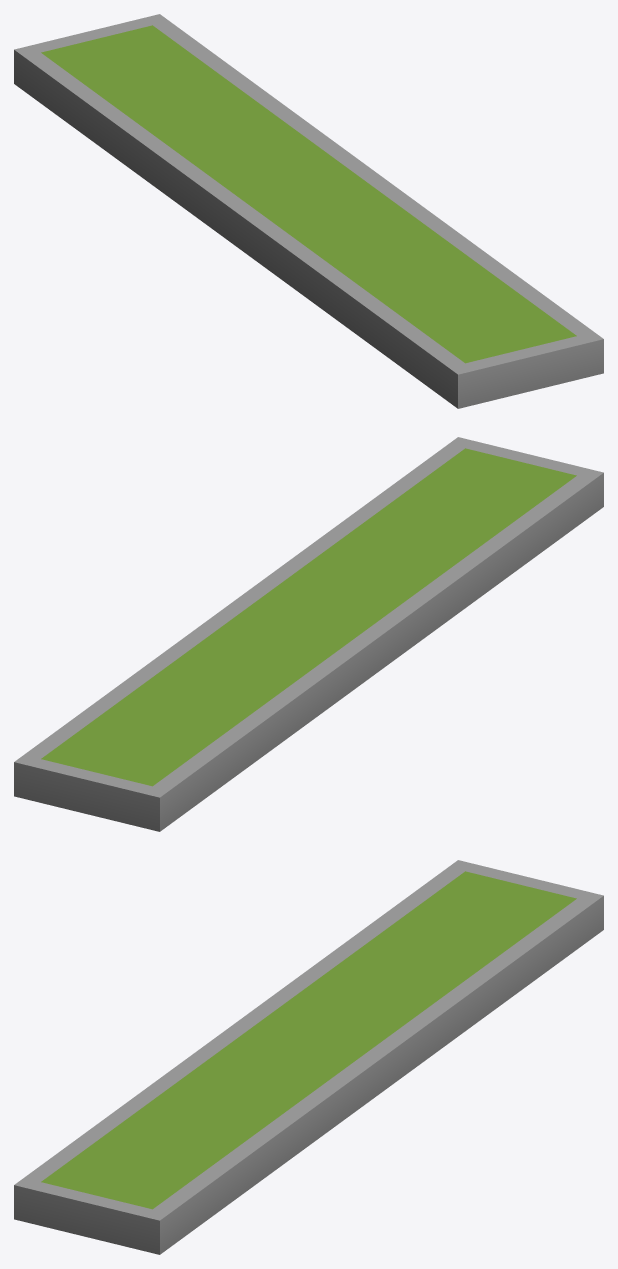
File: lawn.fbx
The picture shows the model from 3 angles, top to bottom: view 1: azimuth 30°, elevation 25°; view 2: azimuth 150°, elevation 25°; view 3: azimuth 330°, elevation 25°; orthographic projection.
Parts seen in each view (by area): view 1: lawn; view 2: lawn; view 3: lawn.
Part boxes in pixels (bbox=[...]): lawn: bbox=[14, 14, 603, 408]; lawn: bbox=[14, 437, 603, 831]; lawn: bbox=[14, 860, 603, 1254].
Size of the model in its own units: 105 by 23.59 by 554.
Materials: 1 (1 with a texture image).
